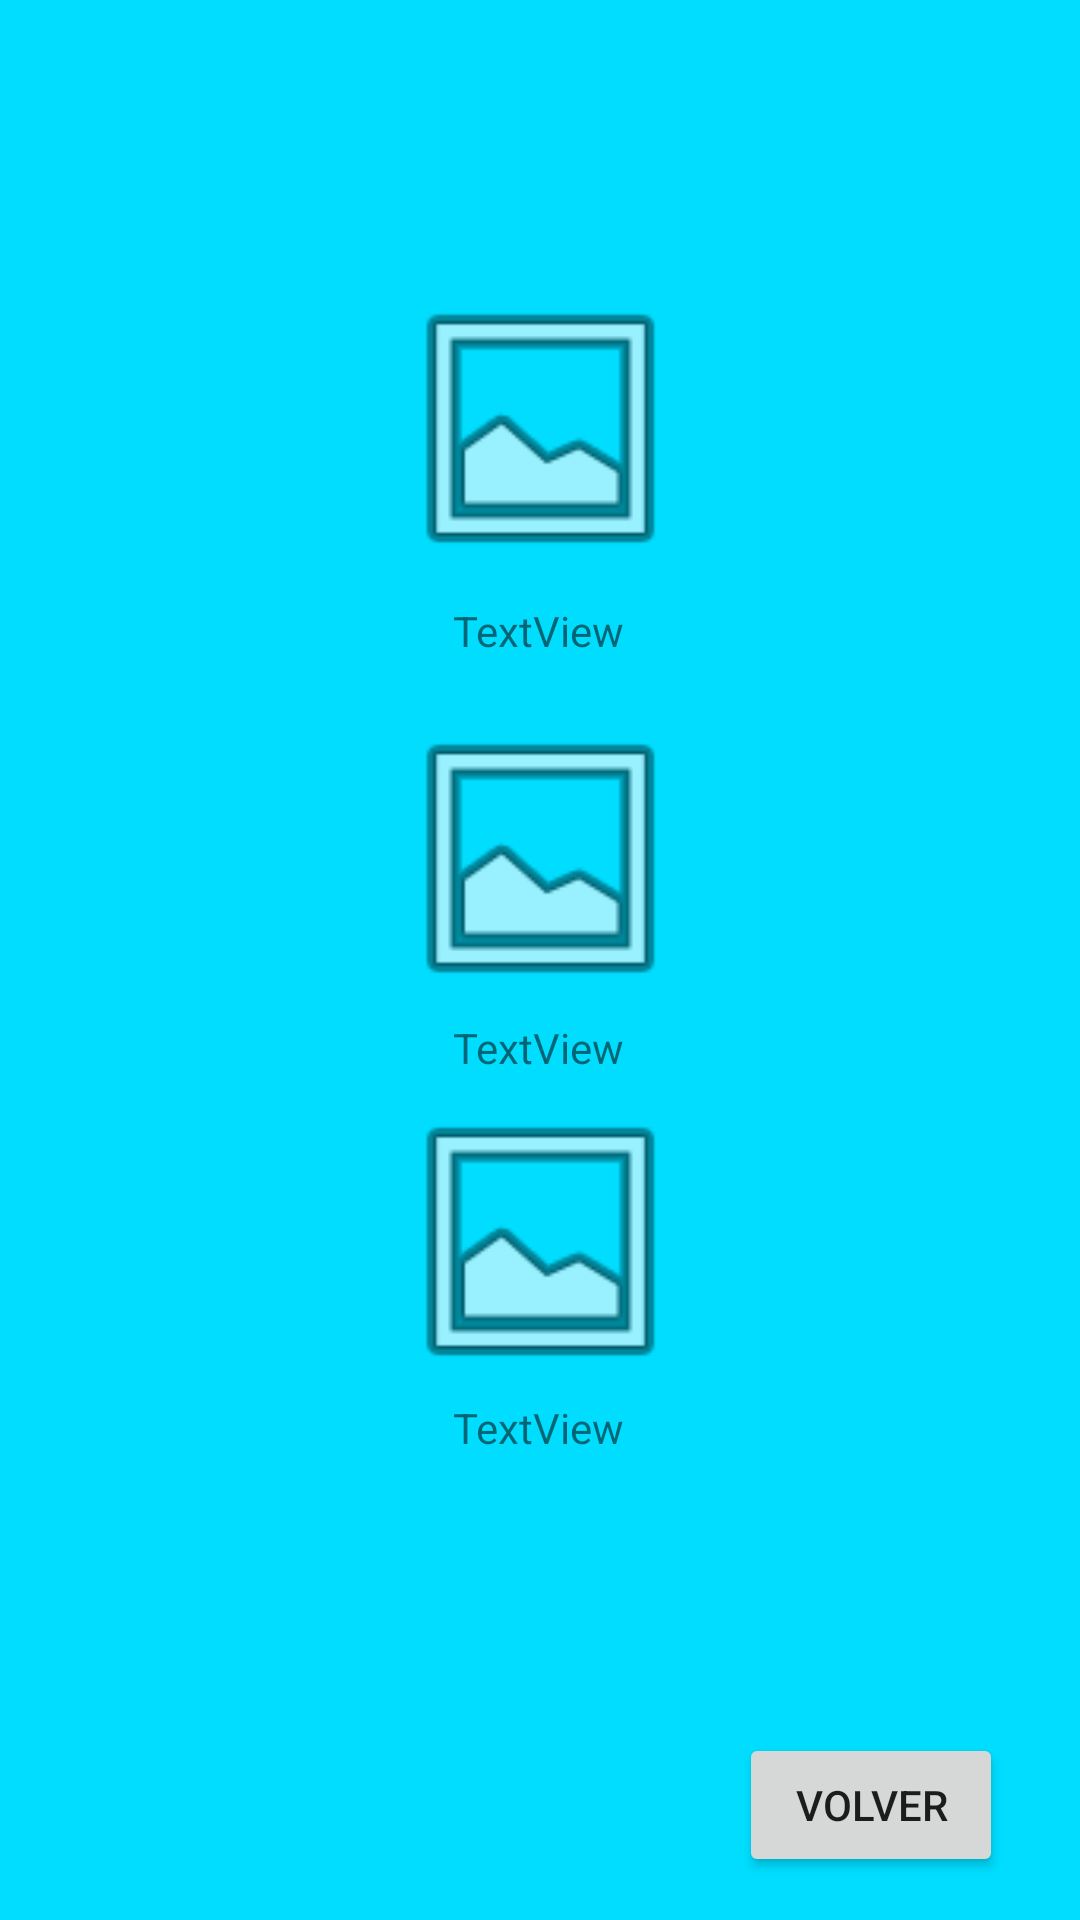

Icon bounding boxes for this 1080x1920 phone screenshot, format bbox=(x1, y1, x2, y2):
gallery: bbox=(426, 314, 655, 543), bbox=(426, 744, 655, 973), bbox=(426, 1127, 655, 1356)
